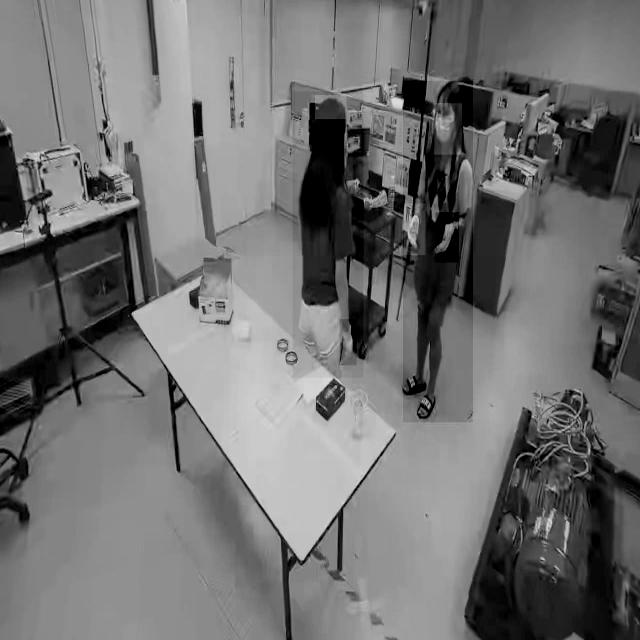face_mask: (434, 103, 462, 155)
hand_glove: (435, 212, 459, 262), (404, 204, 426, 255), (339, 319, 357, 366)
head_nohelmet: (315, 95, 347, 120), (436, 78, 464, 100)
person: (403, 81, 473, 423), (292, 92, 364, 378)
